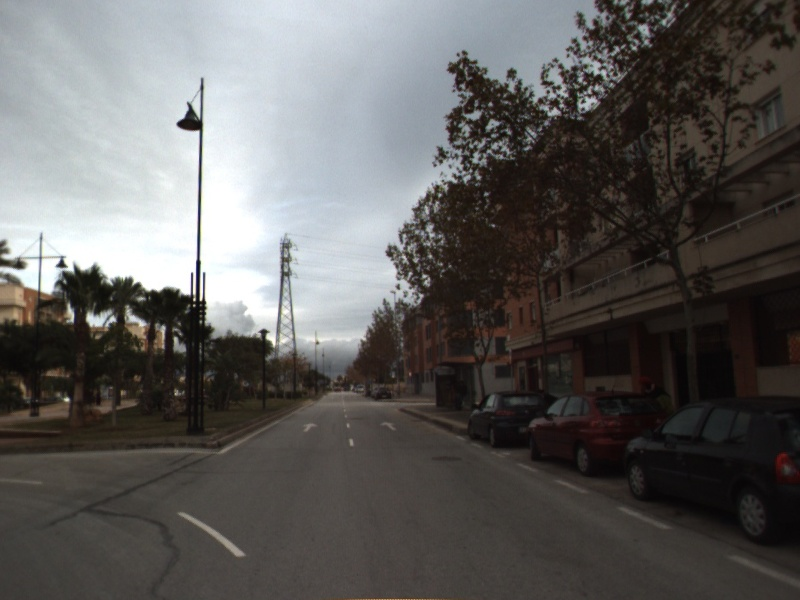STRAIGHT: (301, 421, 321, 434), (378, 420, 399, 432)
